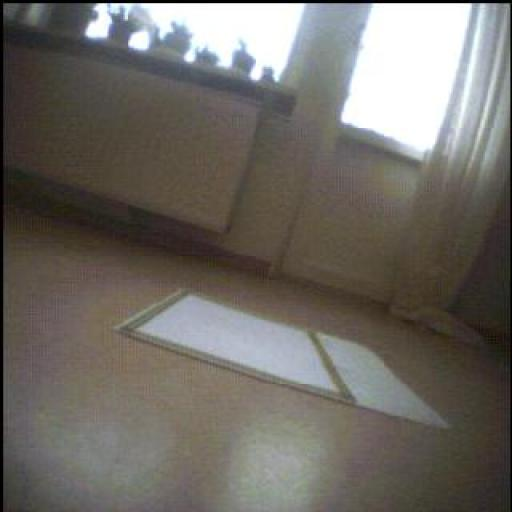Pad: (120, 293, 341, 400)
